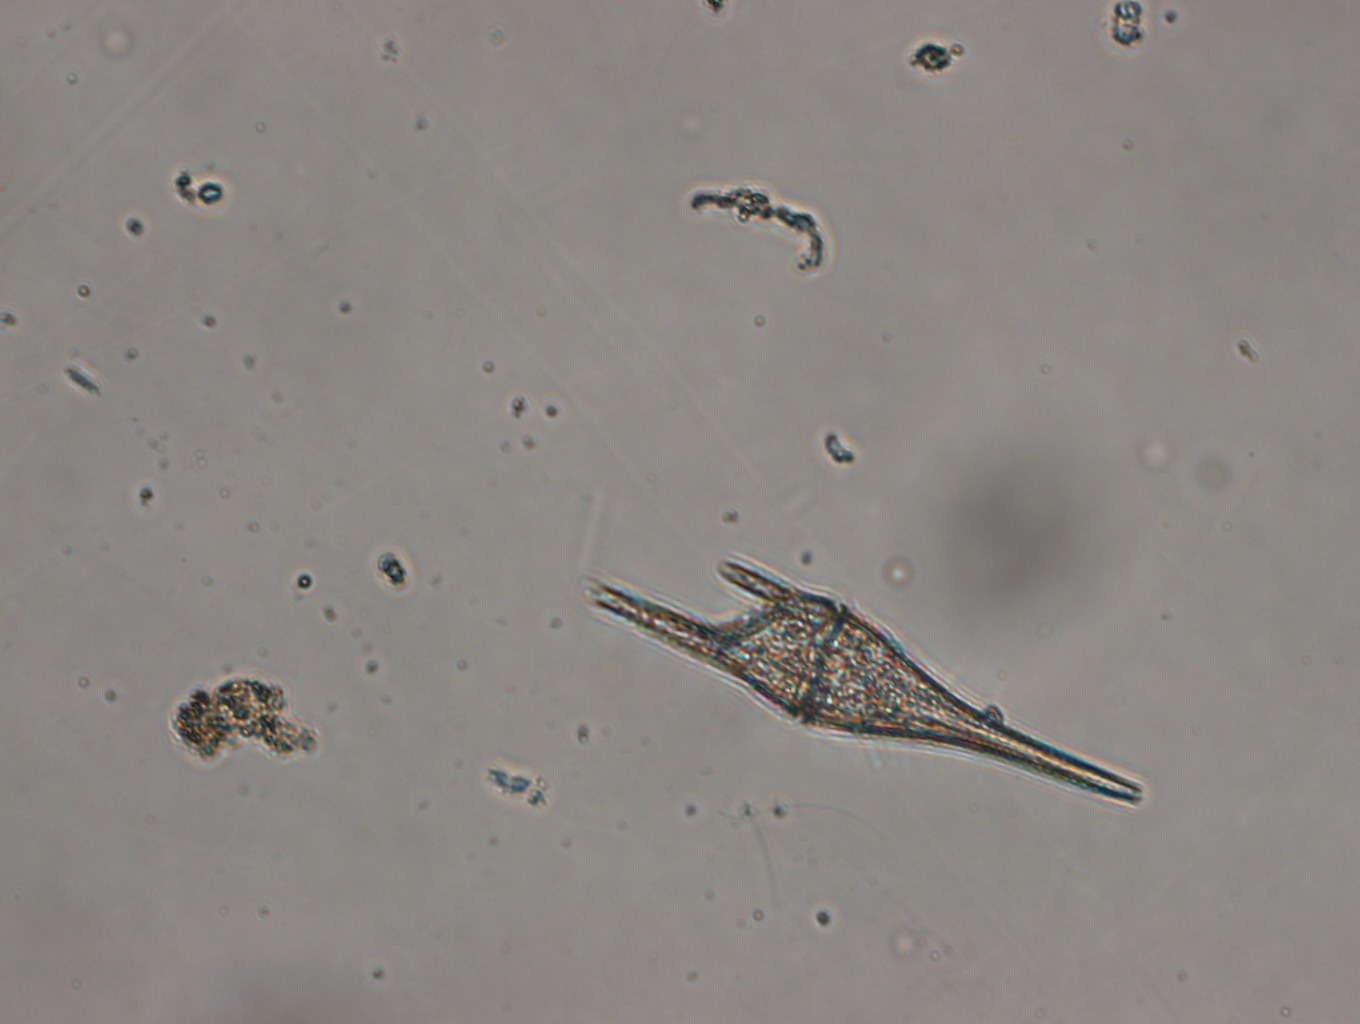ceratium furca: (584, 552, 1147, 807)
